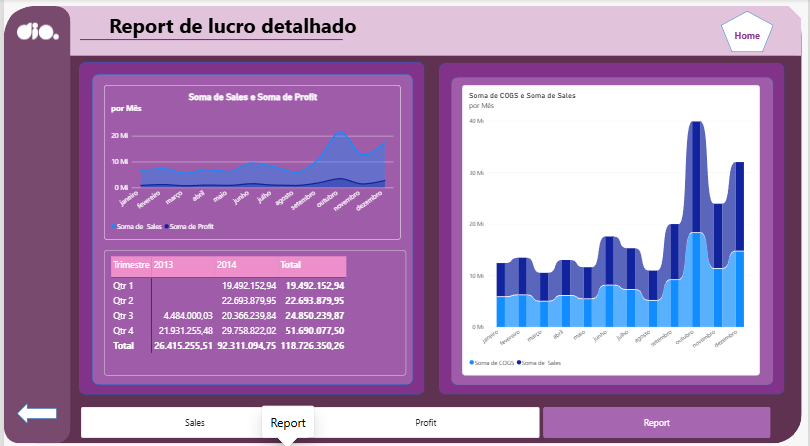

The page's visual inventory and layout, read from the dashboard file:
{"tool":"powerbi","page":{"name":"Report","canvas":[1920,1080],"ordinal":2},"visuals":[{"type":"shape","box":[11.4,17,1894.4,1045.2],"z":0},{"type":"shape","box":[110.8,17,1795,119.3],"z":1000},{"type":"shape","box":[0,17,159.1,1045.2],"z":2000},{"type":"shape","box":[31.1,965.3,95,50],"z":3000},{"type":"image","box":[30,28,100,96],"z":4000},{"type":"shape","box":[181.5,83.1,627.8,26.7],"z":5000},{"type":"textbox","box":[250.1,29.6,604.3,67.1],"z":6000},{"type":"shape","box":[180.4,149.8,825.5,794.9],"z":7000},{"type":"shape","box":[211,180.4,767.4,742.9],"z":8000},{"type":"areaChart","fields":{"Category":["financials.Date.Variation.Hierarquia de datas.Mês"],"Y":["Sum(financials. Sales)","Sum(financials.Profit)"]},"box":[238.5,204.8,709.3,369.9],"z":9000},{"type":"pivotTable","fields":{"Columns":["financials.Date.Variation.Hierarquia de datas.Ano"],"Rows":["financials.Date.Variation.Hierarquia de datas.Trimestre"],"Values":["Sum(financials. Sales)"]},"box":[238.5,599.2,721.5,299.6],"z":9002},{"type":"shape","box":[1039.5,152.9,825.5,791.8],"z":9003},{"type":"shape","box":[1067,186.5,770.4,736.8],"z":9004},{"type":"ribbonChart","fields":{"Category":["financials.Date.Variation.Hierarquia de datas.Mês"],"Y":["Sum(financials.COGS)","Sum(financials. Sales)"]},"box":[1094.5,204.8,712.4,694],"z":9005},{"type":"pageNavigator","box":[184,974.9,1648.7,74.1],"z":9006},{"type":"actionButton","box":[1693.8,33.6,162,94.8],"z":9007},{"type":"shape","box":[1712.1,27.5,125.4,97.8],"z":9008}]}

Visuals, with their boxes in screenshot pixels (x1, y1, x2, y2), scaled from the page's 1920x1080 canvas onto the 810x446 screenshot:
shape: 5:7:804:439
shape: 47:7:804:56
shape: 0:7:67:439
shape: 13:399:53:419
image: 13:12:55:51
shape: 77:34:341:45
textbox: 106:12:360:40
shape: 76:62:424:390
shape: 89:74:413:381
areaChart - financials.Date.Variation.Hierarquia de datas.Mês x Sum(financials. Sales): 101:85:400:237
pivotTable - financials.Date.Variation.Hierarquia de datas.Ano x financials.Date.Variation.Hierarquia de datas.Trimestre: 101:247:405:371
shape: 439:63:787:390
shape: 450:77:775:381
ribbonChart - financials.Date.Variation.Hierarquia de datas.Mês x Sum(financials.COGS): 462:85:762:371
pageNavigator: 78:403:773:433
actionButton: 715:14:783:53
shape: 722:11:775:52
